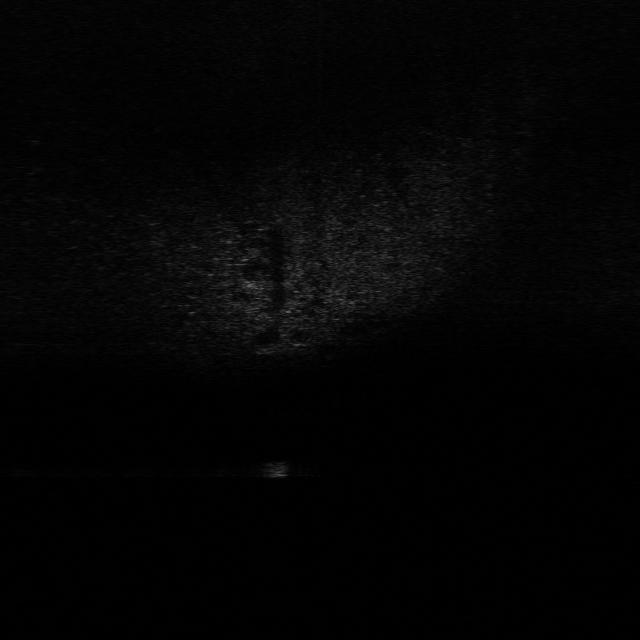cylinder: (262, 462, 292, 479)
